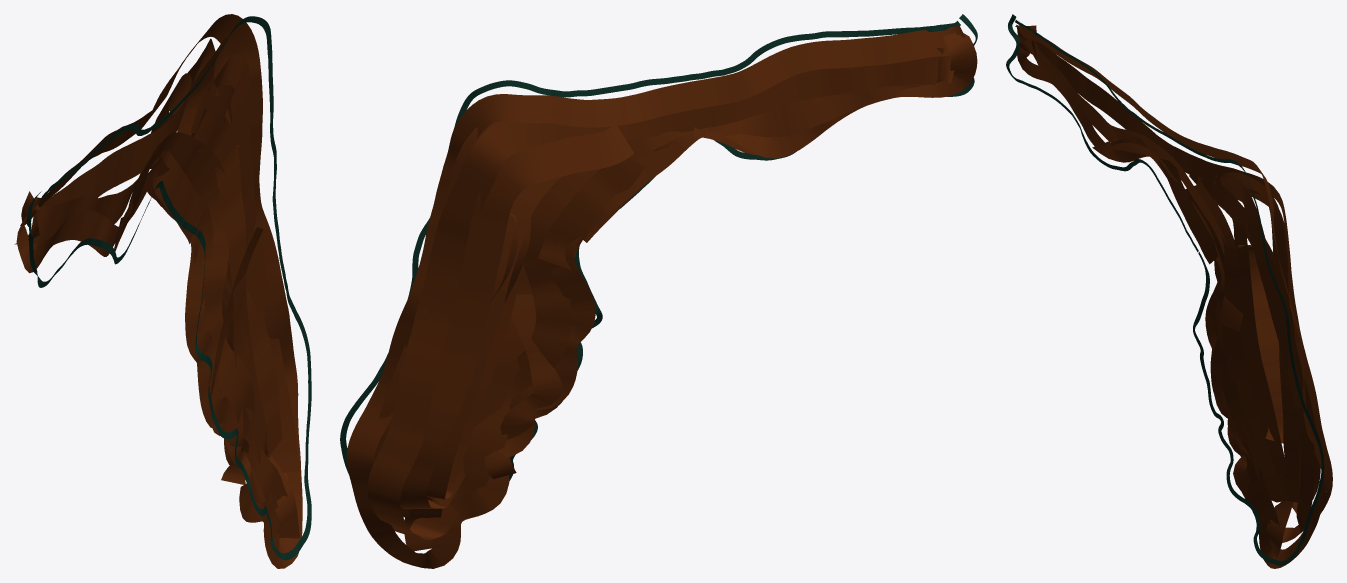
The model's file is florida.fbx.
The picture shows the model from 3 angles, left to right: view 1: azimuth 30°, elevation 25°; view 2: azimuth 150°, elevation 25°; view 3: azimuth 270°, elevation 25°; orthographic projection. The views are drawn at different scales.
Parts seen in each view (by area): view 1: Untitled_8_Flat_geo; view 2: Untitled_8_Flat_geo; view 3: Untitled_8_Flat_geo.
Part boxes in pixels (x1=…): Untitled_8_Flat_geo: x1=14, y1=14, x2=311, y2=568; Untitled_8_Flat_geo: x1=340, y1=14, x2=977, y2=568; Untitled_8_Flat_geo: x1=1006, y1=14, x2=1332, y2=568.
Size of the model in its own units: 0.952 by 1.08 by 0.7792.
